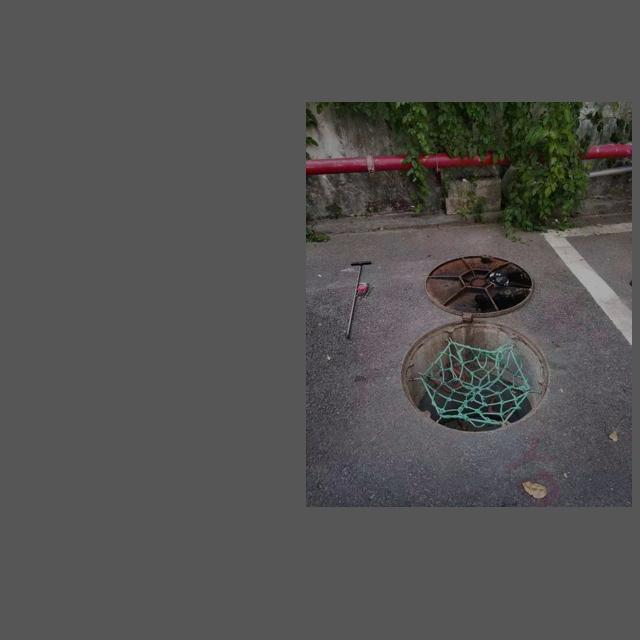uncovered: (384, 244, 565, 437)
